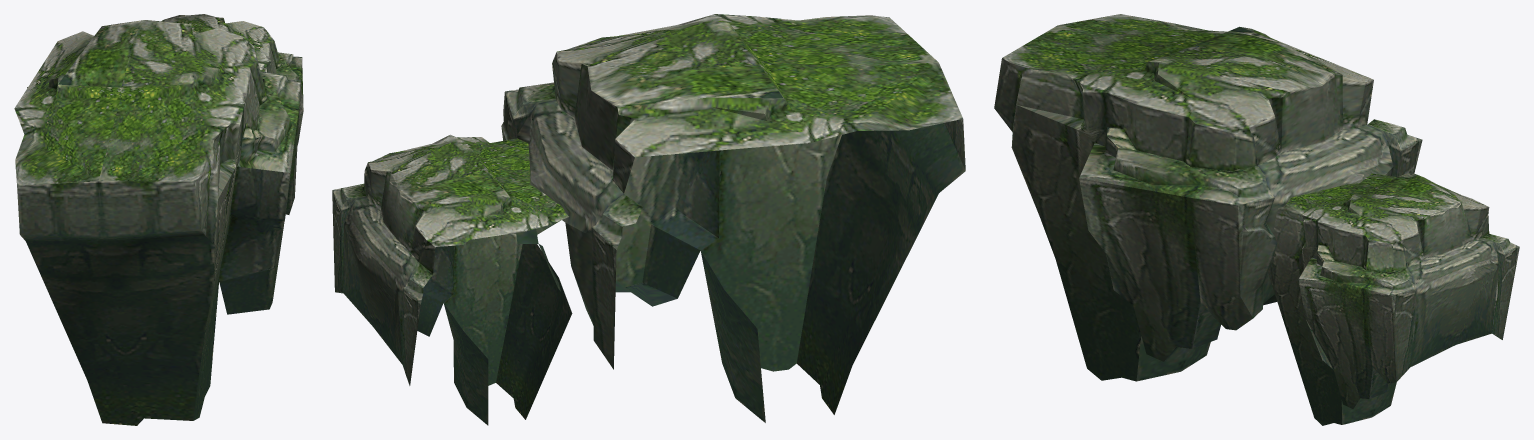
The model's file is 4006_Item_shitou_1.FBX.
3 views of the same model, side by side, from view 1: azimuth 30°, elevation 25°; view 2: azimuth 150°, elevation 25°; view 3: azimuth 270°, elevation 25° (orthographic). The views are drawn at different scales.
Parts seen in each view (by area): view 1: 4006_Item_shitou_1; view 2: 4006_Item_shitou_1; view 3: 4006_Item_shitou_1.
Boxes of the visible parts, x1=… form: 4006_Item_shitou_1: x1=14, y1=14, x2=303, y2=425; 4006_Item_shitou_1: x1=332, y1=14, x2=965, y2=425; 4006_Item_shitou_1: x1=994, y1=14, x2=1519, y2=425.
Bounding box in the file's own units: 1700 × 1789 × 1253.
